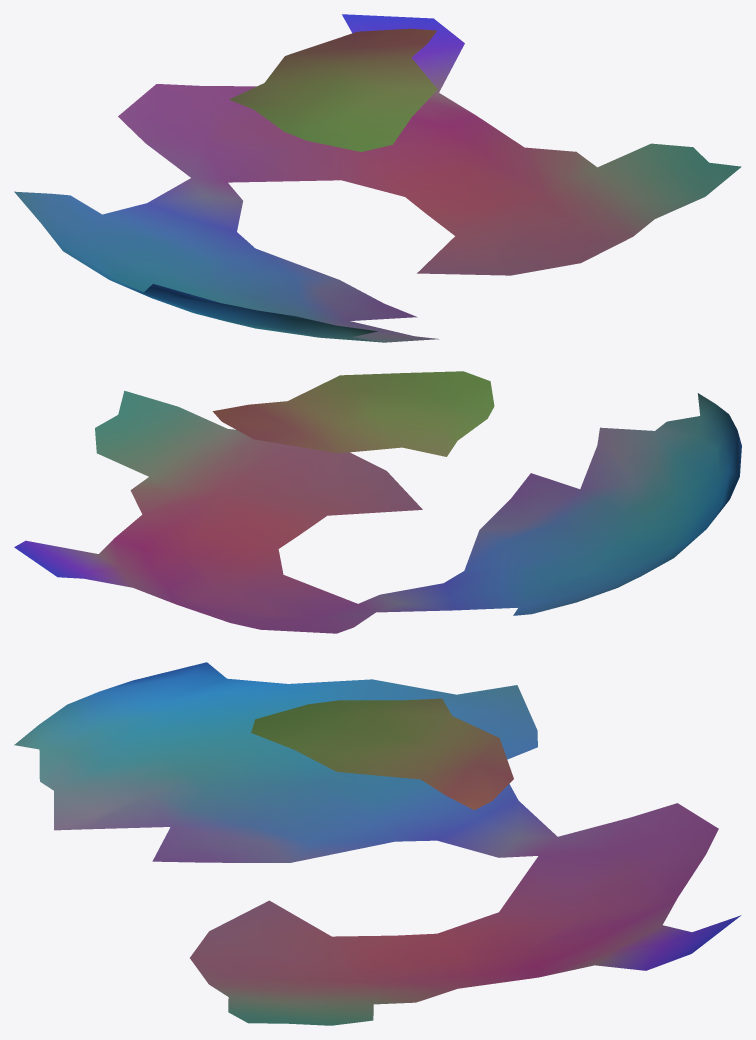
Rendered from space-galaxies-irregular-galaxy_v5.glb.
3 renders of one model, top to bottom at view 1: azimuth 30°, elevation 25°; view 2: azimuth 150°, elevation 25°; view 3: azimuth 270°, elevation 25°, orthographic. The views are drawn at different scales.
Parts seen in each view (by area): view 1: Irregular Galaxy_v5; view 2: Irregular Galaxy_v5; view 3: Irregular Galaxy_v5.
Part boxes in pixels (box(x1,y1,x2,y2)): Irregular Galaxy_v5: box(14, 14, 741, 342); Irregular Galaxy_v5: box(14, 371, 741, 633); Irregular Galaxy_v5: box(14, 662, 741, 1025).
Bounding box in the file's own units: 0.5 × 0.1148 × 0.4822.
